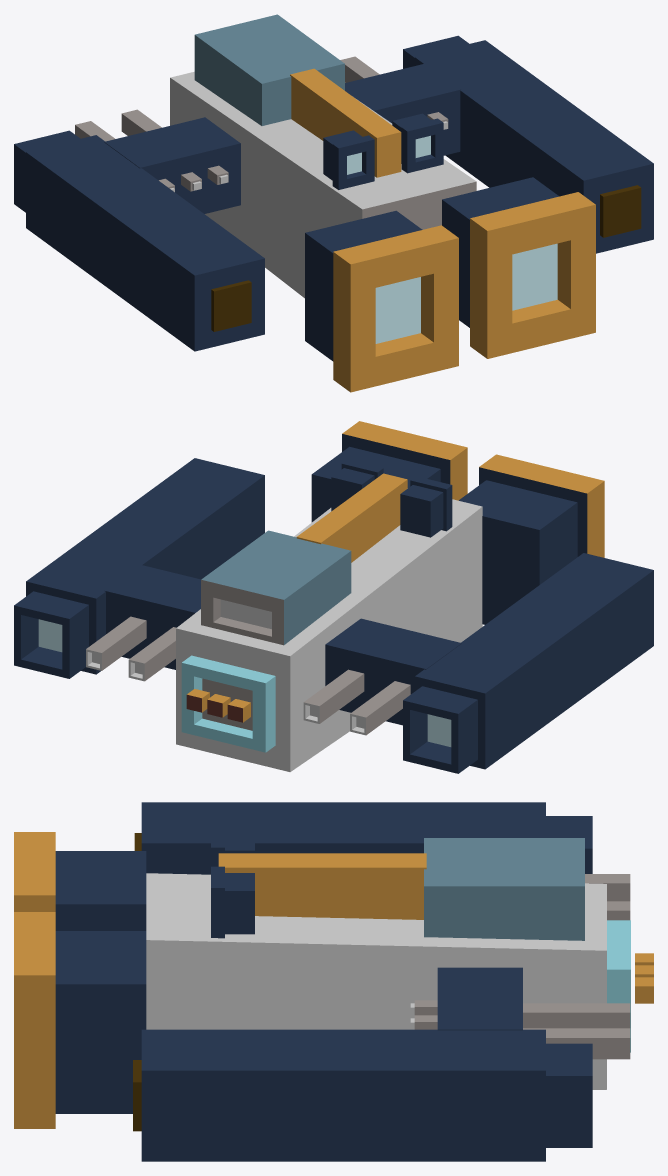
Rendered from Agile_blue_spaceship.fbx.
3 views of the same model, one above another, from view 1: azimuth 30°, elevation 25°; view 2: azimuth 150°, elevation 25°; view 3: azimuth 270°, elevation 25° (orthographic). The views are drawn at different scales.
Parts seen in each view (by area): view 1: polySurface253; view 2: polySurface253; view 3: polySurface253.
Part boxes in pixels (<box>): polySurface253: <box>14,14,653,392</box>; polySurface253: <box>14,421,653,773</box>; polySurface253: <box>14,802,653,1161</box>.
Bounding box in the file's own units: 129 × 46.8 × 130.
